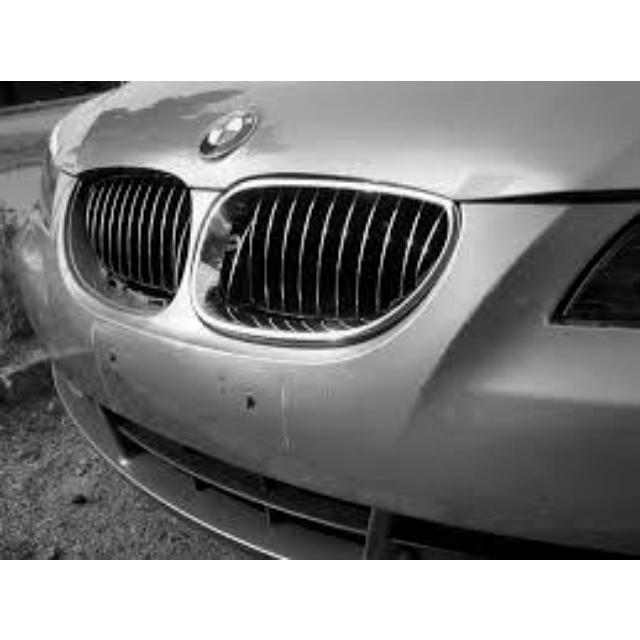front-bumper-dent: (99, 330, 637, 557)
